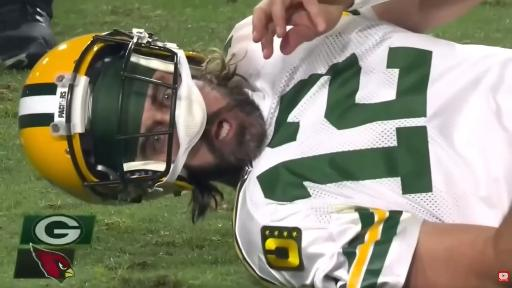Helmet: (19, 30, 206, 204)
Jersey: (227, 16, 511, 287)
Player: (19, 15, 511, 287)
